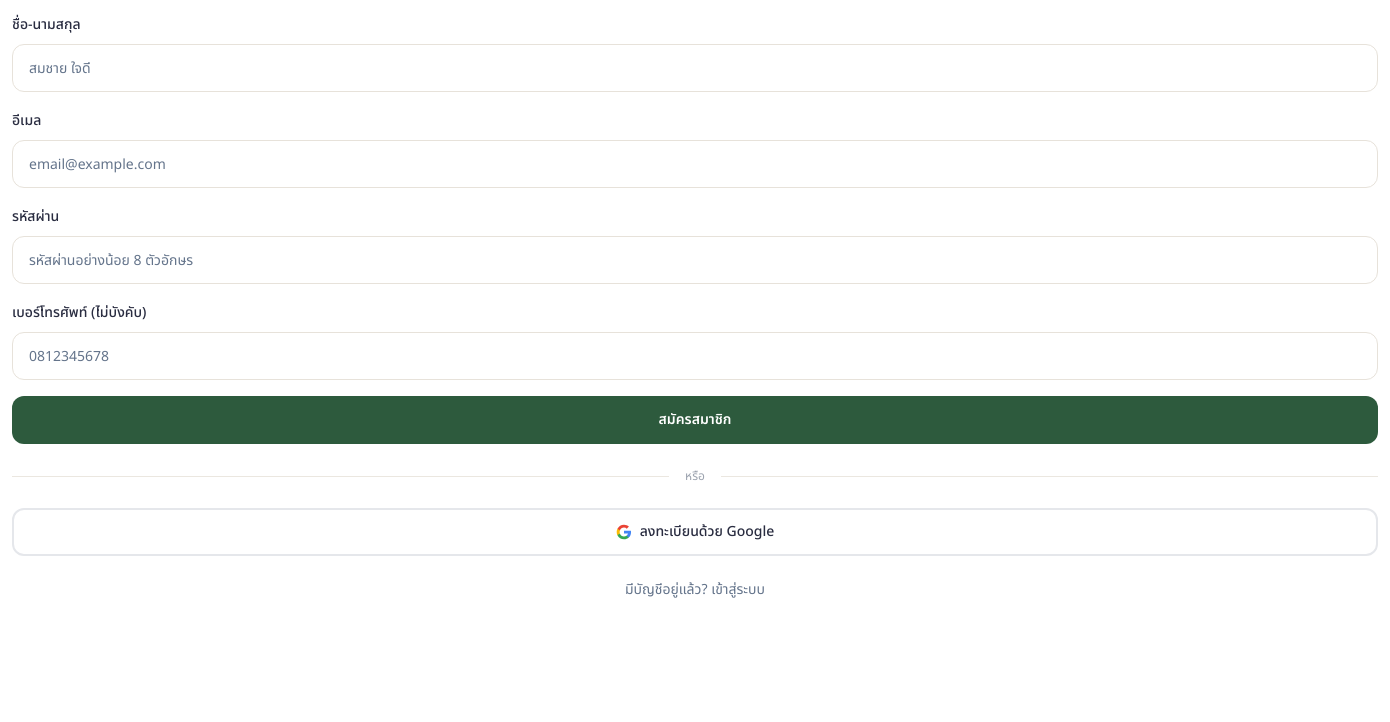
Test case: SignupForm › Validation › shows validation error for password without uppercase letter
Type "password123" into the password field labelled "รหัสผ่าน". click: (695, 260)
box: [12,236,1378,284]
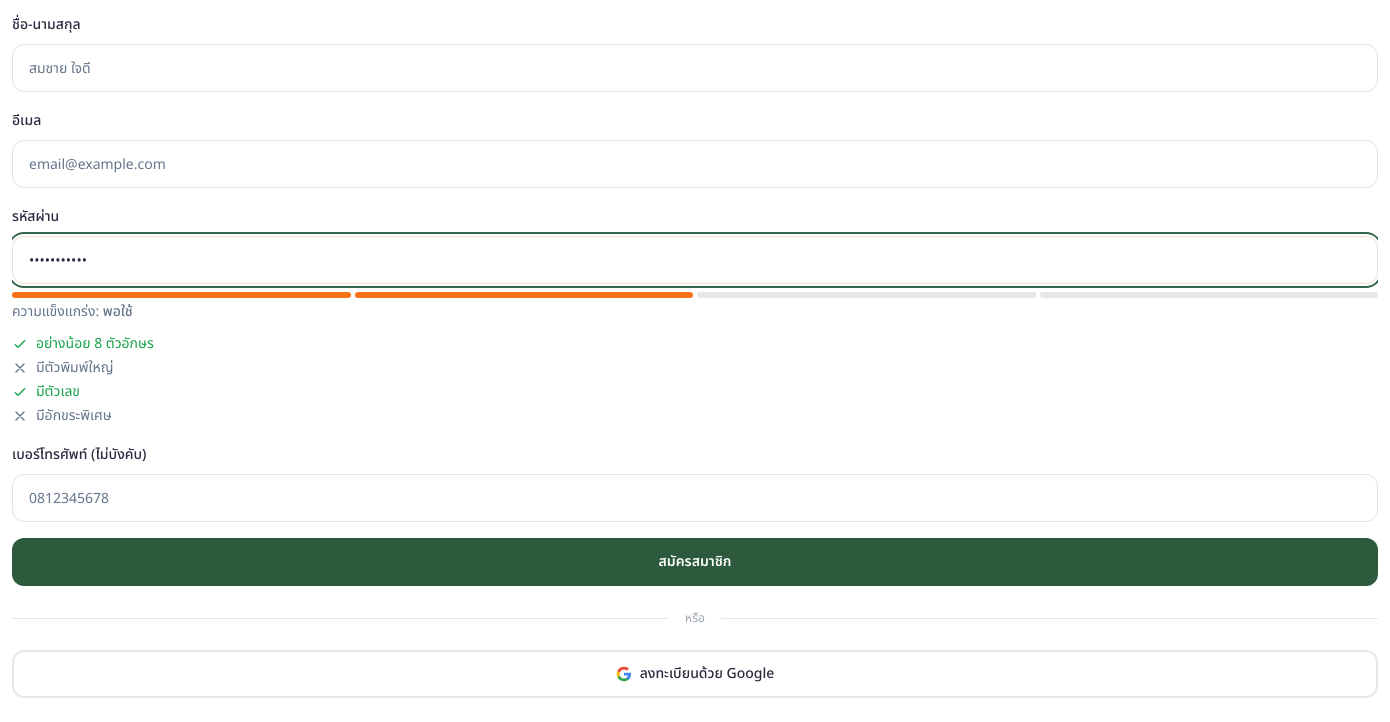
Click the button "สมัครสมาชิก". click: click(695, 562)
box: [12,538,1378,586]
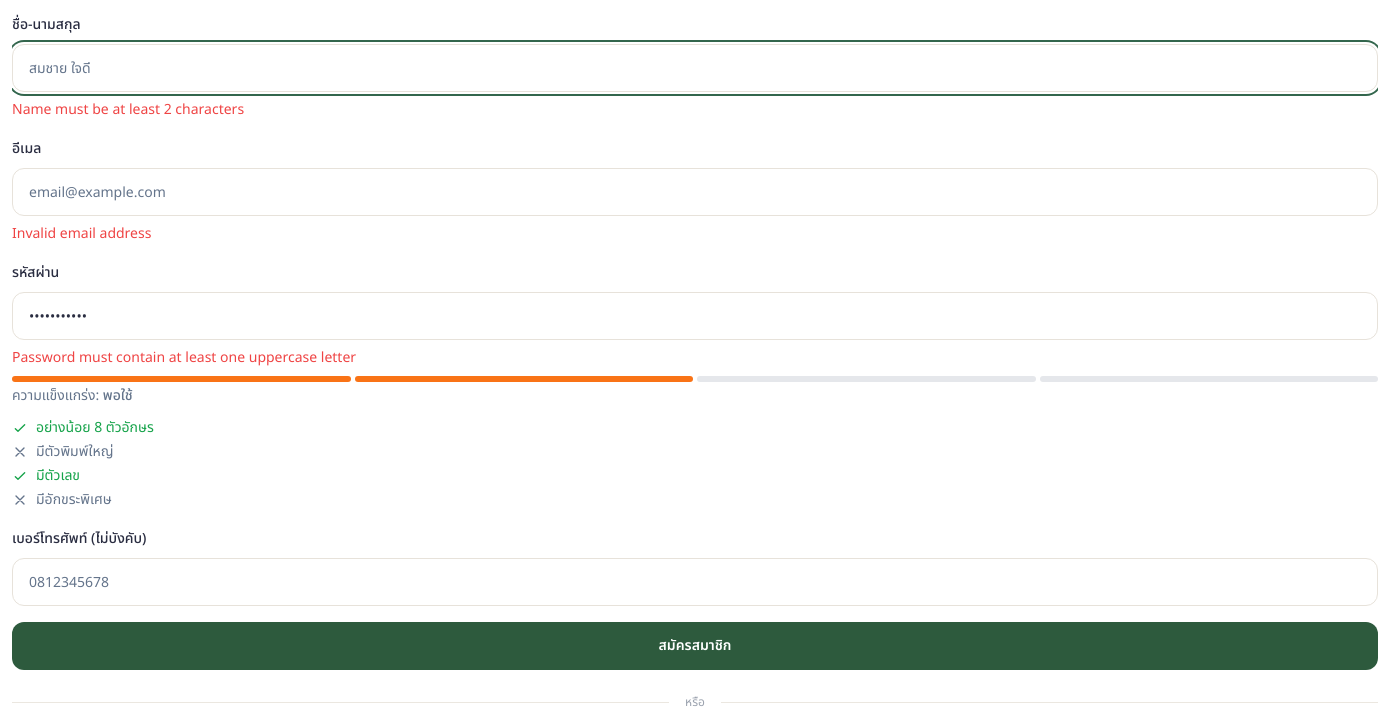
Check: the text "Password must contain at least one uppercase letter" is shown, box [12,347,356,368]
